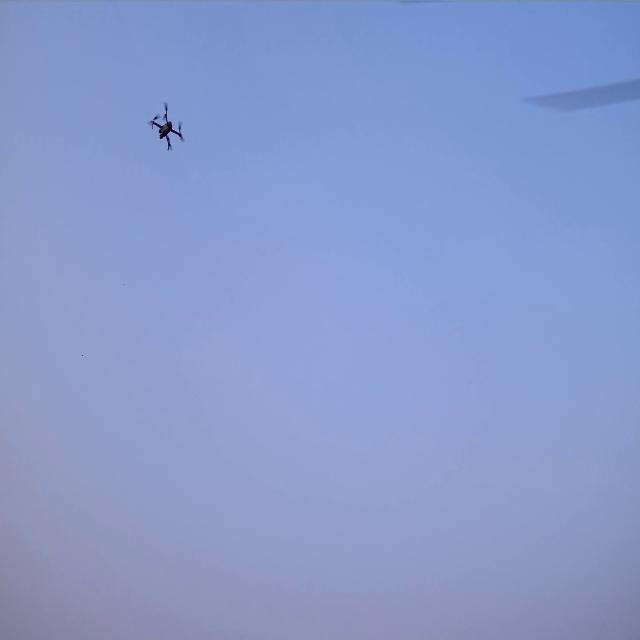UAV: (152, 107, 181, 150)
